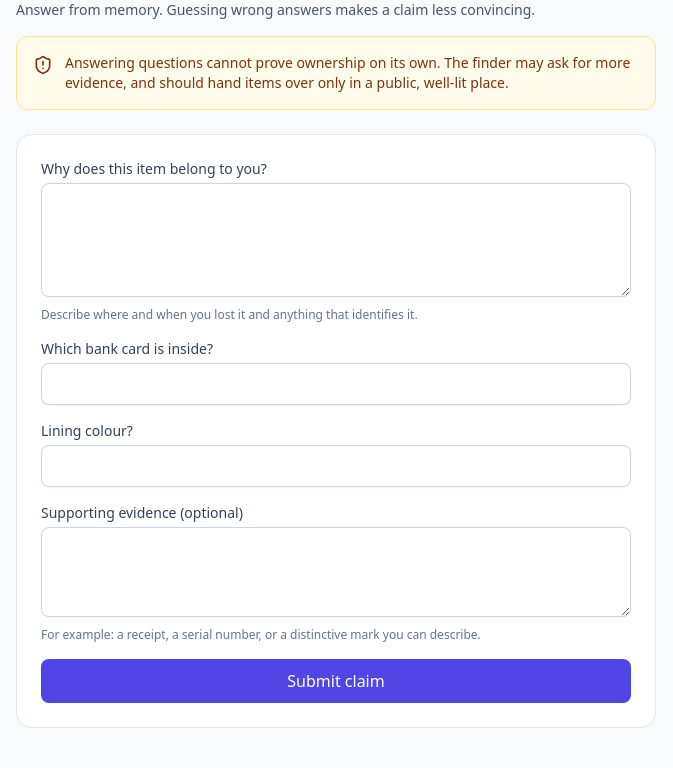
Test case: ClaimForm › requires an explanation and an answer to every question
(page scrolled)
Click the button "Submit claim" at (336, 681), box left=41, top=659, right=631, bottom=703
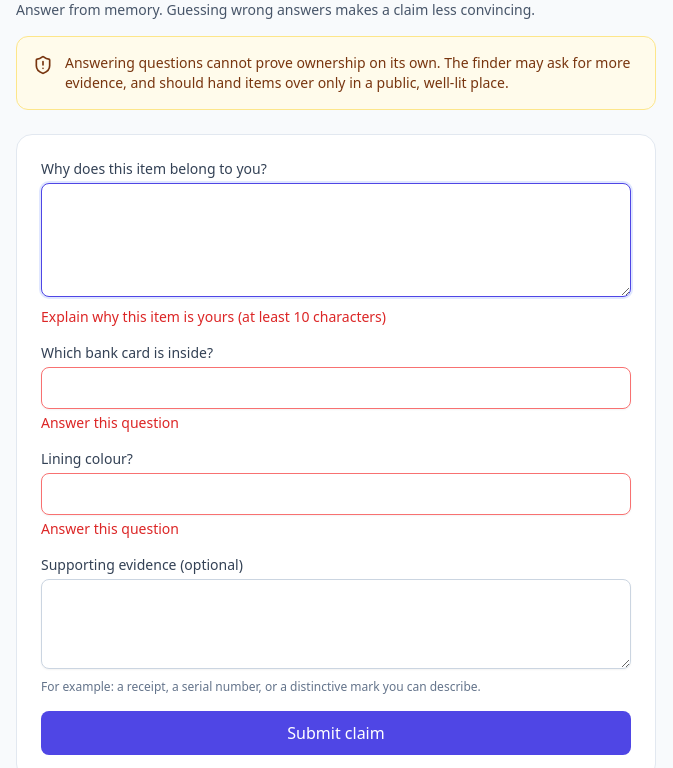
Check: the text "Explain why this item is yours (at least 10 characters)" is shown, box left=41, top=307, right=386, bottom=326
Check: the text "Answer this question" is shown 2 times, box left=41, top=413, right=179, bottom=432; left=41, top=519, right=179, bottom=538
